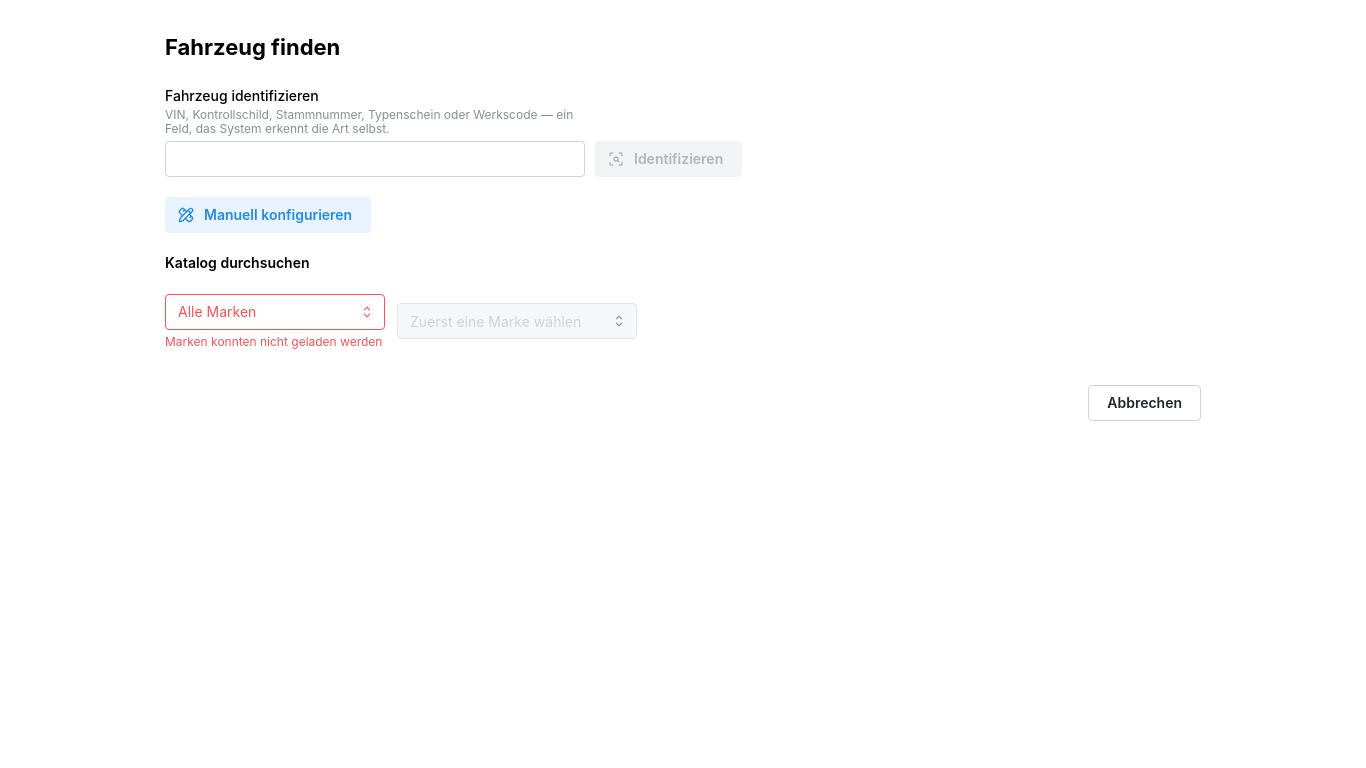
Test: ConfiguratorOverlay — spec reference fields (KAN-239) › offers a list longer than one page, fetched within the API cap
The width and height of the screenshot is (1366, 768).
Click the button "Manuell konfigurieren" at (268, 215), box [165,197,371,233]
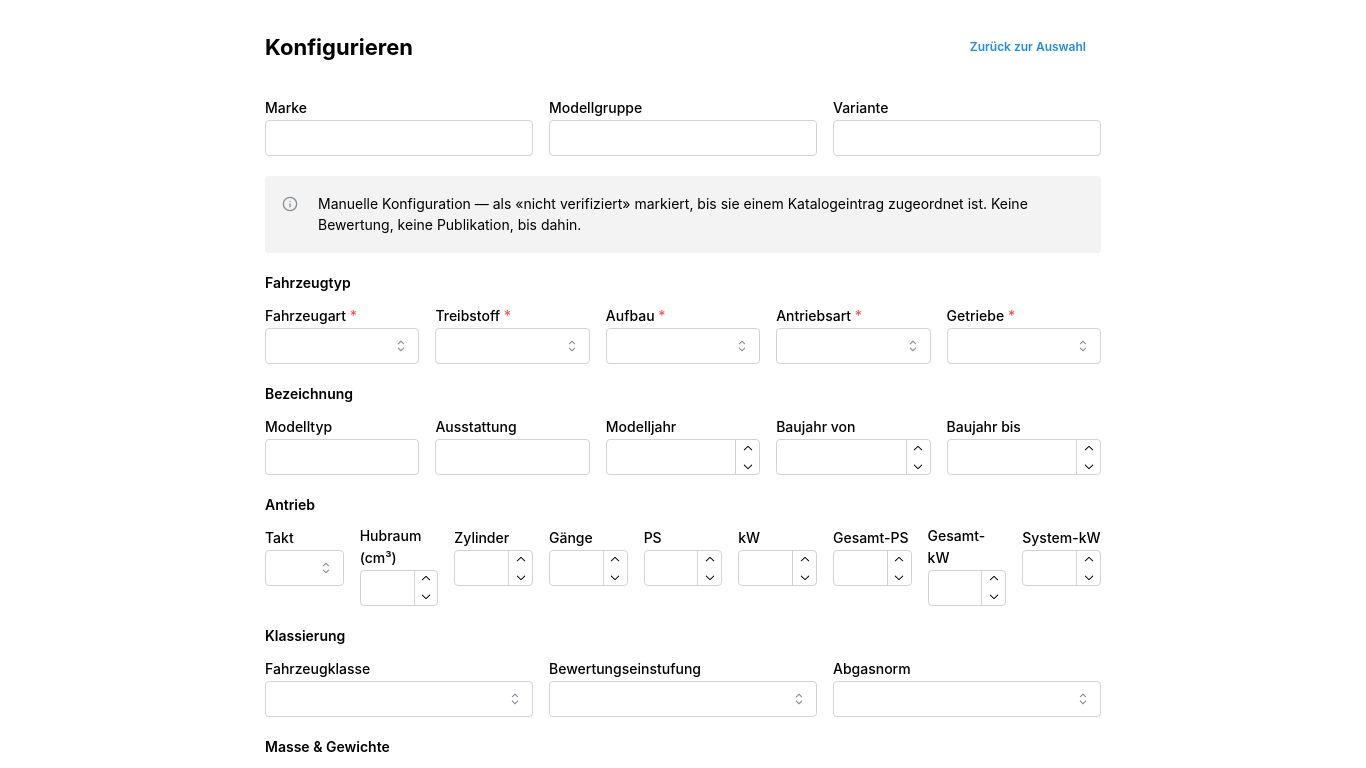
Click the field labelled "Takt" at (304, 568), box [265,550,344,586]
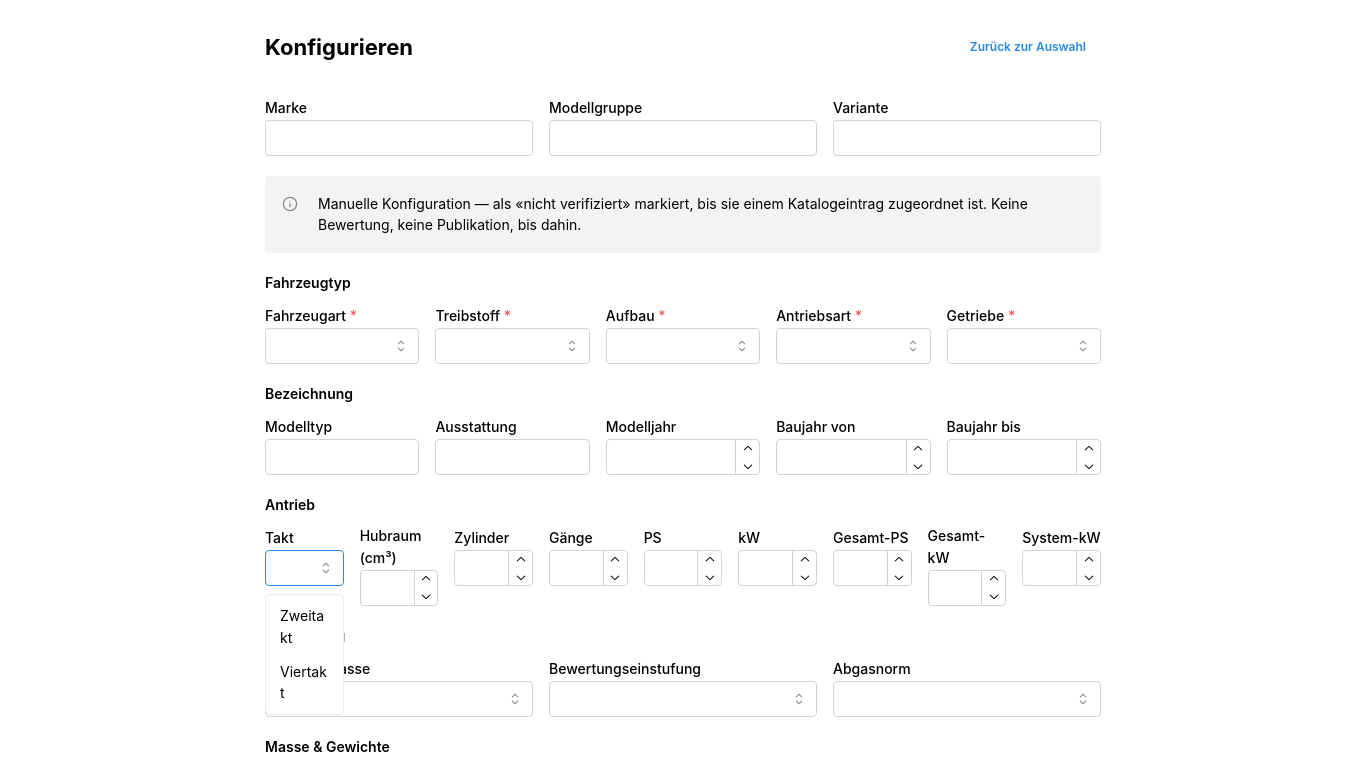
Expected: the option "Zweitakt" is shown, [280,607,324,646]
Expected: the option "Viertakt" is shown, [280,663,327,701]
